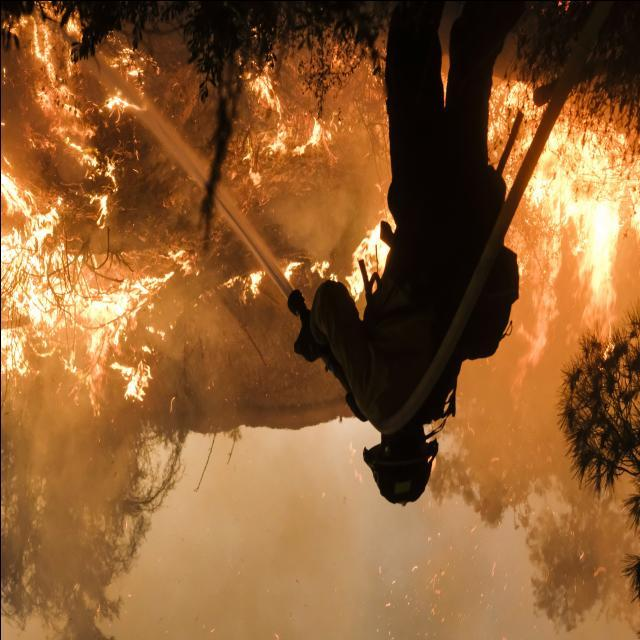Fire: (242, 56, 638, 388), (3, 35, 203, 405)
